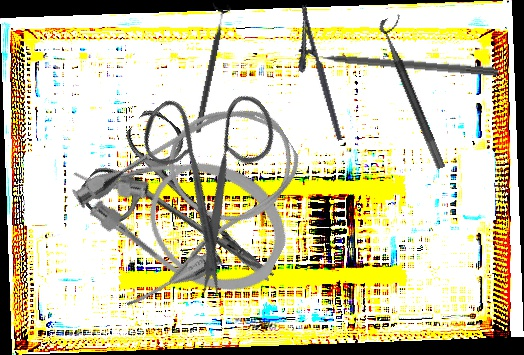Cannula: (60, 78, 326, 319), (54, 104, 306, 313)
Fixation Ring: (376, 13, 459, 171), (187, 1, 233, 135)
Iris Scissors: (93, 55, 339, 302), (73, 104, 307, 327)
Needle Holder: (282, 4, 344, 146)
Pusher: (294, 48, 500, 77)
